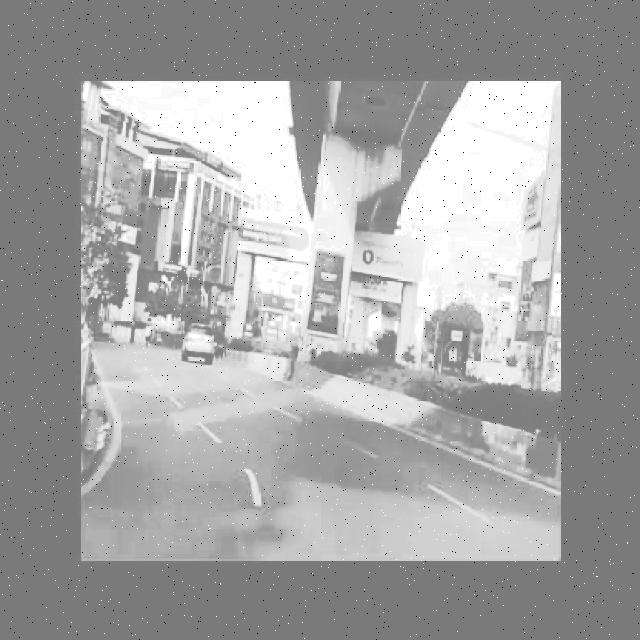Car: (177, 306, 231, 377)
